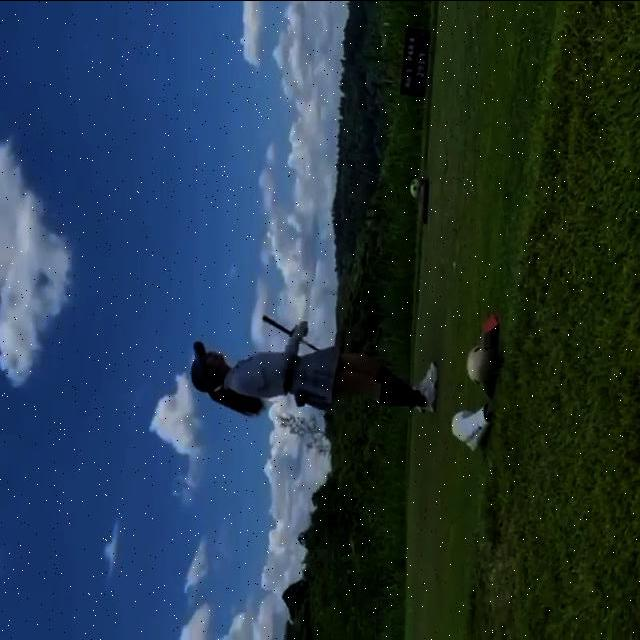golf club-handle: (261, 314, 317, 350)
